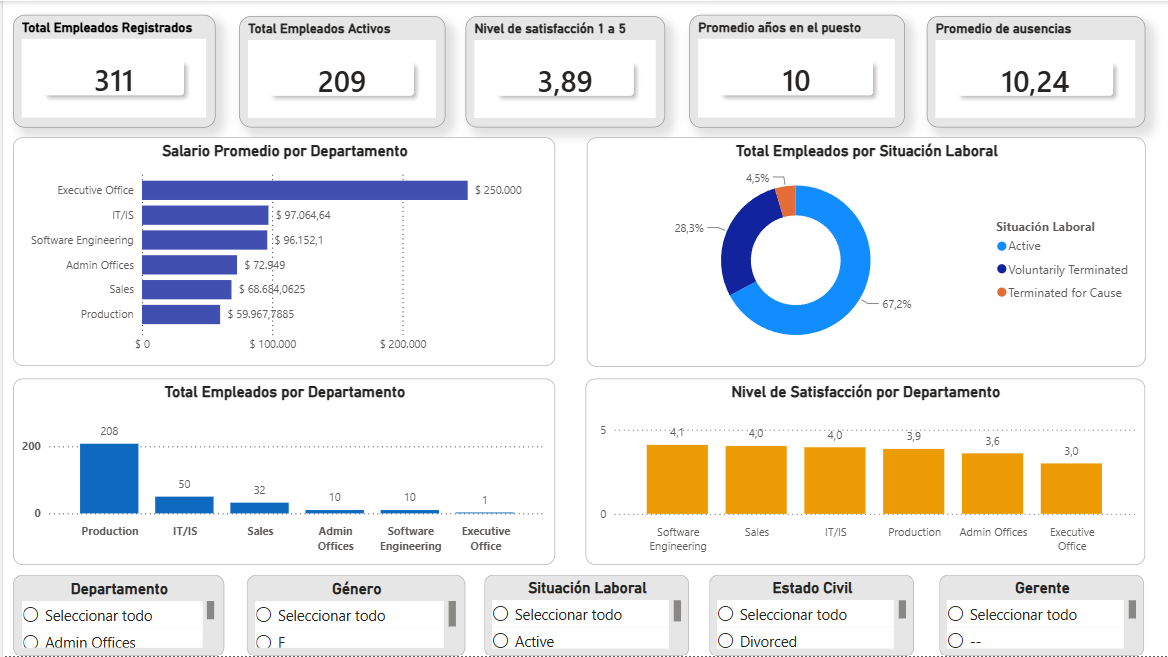

Layout of this report page (visuals, bound fields, positions):
{"tool":"powerbi","page":{"name":"Página 1","canvas":[1280,720],"ordinal":0},"visuals":[{"type":"cardVisual","title":"Total Empleados","fields":{"Data":["FactEmployee.Total Empleados"]},"box":[10.3,14.7,222.2,123.6],"z":0},{"type":"cardVisual","title":"Total Empleados Activos","fields":{"Data":["FactEmployee.Total Empleados Activos"]},"box":[259,16.2,226.6,122.1],"z":1000},{"type":"cardVisual","title":"Nivel de satisfacción","fields":{"Data":["FactEmployee.Nivel de Satisfacción"]},"box":[507.7,16.2,219.3,122.1],"z":2000},{"type":"cardVisual","title":"Promedio años en el puesto","fields":{"Data":["FactEmployee.Promedio Antigüedad"]},"box":[753.5,14.7,236.9,123.6],"z":3000},{"type":"cardVisual","title":"Promedio de ausencias","fields":{"Data":["FactEmployee.Tasa de Ausentismo"]},"box":[1013.9,16.2,239.9,122.1],"z":4000},{"type":"columnChart","title":"Total Empleados por Departamento","fields":{"Y":["FactEmployee.Total Empleados"],"Category":["DimDepartment.Department"]},"box":[11,414.4,595.5,204.5],"z":5000},{"type":"donutChart","title":"Total Empleados por Situación Laboral","fields":{"Category":["DimEmploymentStatus.EmploymentStatus"],"Y":["FactEmployee.Total Empleados"]},"box":[640.1,150.1,613.7,251.6],"z":6000},{"type":"columnChart","title":"Nivel de Satisfacción por Departamento","fields":{"Category":["DimDepartment.Department"],"Y":["FactEmployee.Nivel de Satisfacción"]},"box":[640,415,614,205],"z":8000},{"type":"listSlicer","title":"Departamento","fields":{"Values":["DimDepartment.Department"]},"box":[11,629.8,231.9,90.6],"z":8001},{"type":"listSlicer","title":"Género","fields":{"Values":["DimGender.Sex"]},"box":[267.6,629.8,240.1,90.6],"z":8002},{"type":"listSlicer","title":"Situación Laboral","fields":{"Values":["DimEmploymentStatus.EmploymentStatus"]},"box":[528.3,629.8,225,90.6],"z":8003},{"type":"listSlicer","title":"Estado Civil","fields":{"Values":["DimMaritalStatus.MaritalDesc"]},"box":[775.3,629.8,225,90.6],"z":8004},{"type":"listSlicer","title":"Gerente","fields":{"Values":["DimManager.ManagerName"]},"box":[1027.8,629.8,225,90.6],"z":8005},{"type":"barChart","title":"Salario Promedio por Departamento","fields":{"Category":["DimDepartment.Department"],"Y":["DimDepartment.Salario Promedio"]},"box":[11,149.6,595.5,251.1],"z":8006}]}

Visuals, with their boxes in screenshot pixels (x1, y1, x2, y2), scaled from the page's 1280x720 canvas onto the 1168x657 screenshot:
"Total Empleados" cardVisual: 9/13/212/126
"Total Empleados Activos" cardVisual: 236/15/443/126
"Nivel de satisfacción" cardVisual: 463/15/663/126
"Promedio años en el puesto" cardVisual: 688/13/904/126
"Promedio de ausencias" cardVisual: 925/15/1144/126
"Total Empleados por Departamento" columnChart: 10/378/553/565
"Total Empleados por Situación Laboral" donutChart: 584/137/1144/367
"Nivel de Satisfacción por Departamento" columnChart: 584/379/1144/566
"Departamento" listSlicer: 10/575/222/656
"Género" listSlicer: 244/575/463/656
"Situación Laboral" listSlicer: 482/575/687/656
"Estado Civil" listSlicer: 707/575/913/656
"Gerente" listSlicer: 938/575/1143/656
"Salario Promedio por Departamento" barChart: 10/137/553/366
